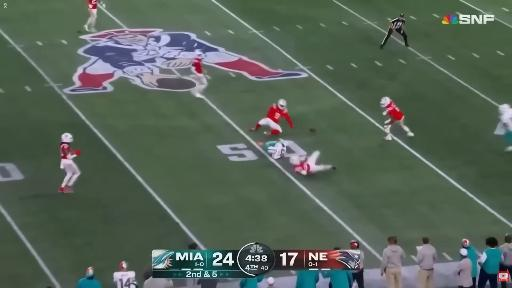Helmet: (499, 104, 510, 114), (380, 97, 390, 107), (290, 155, 300, 165), (62, 133, 73, 142), (278, 99, 286, 109), (266, 146, 275, 154), (195, 50, 202, 56)
Jersey: (267, 105, 292, 126), (265, 141, 286, 159), (114, 271, 135, 287), (386, 102, 403, 120), (60, 143, 73, 163), (500, 110, 511, 130), (295, 162, 310, 174), (192, 58, 202, 74), (88, 0, 97, 9)
Player: (251, 99, 294, 135), (380, 97, 414, 140), (59, 133, 80, 192), (290, 151, 335, 175), (191, 50, 207, 97), (84, 0, 105, 32), (114, 262, 137, 287), (499, 104, 511, 151), (263, 139, 287, 159)
